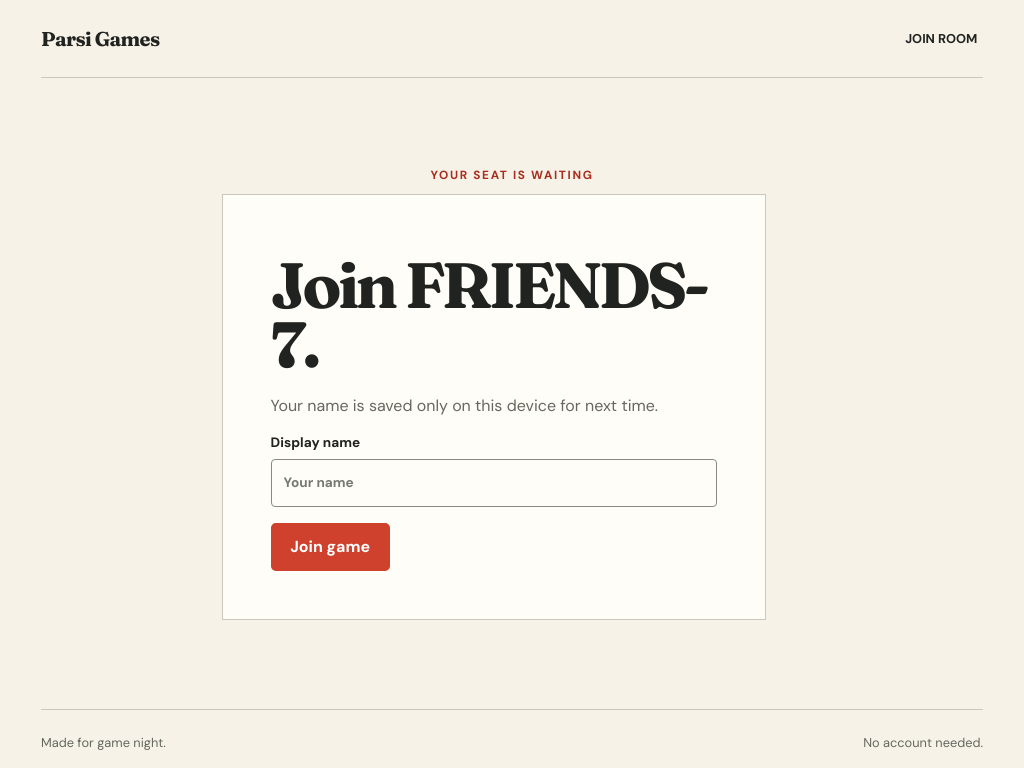
Parsi Games product shell › joins from a shared room URL with a temporary display name
The width and height of the screenshot is (1024, 768).
Type "Sam" into the field labelled "Display name".
click(494, 483); type("Sam")  # box top-left (271, 459), bottom-right (717, 507)
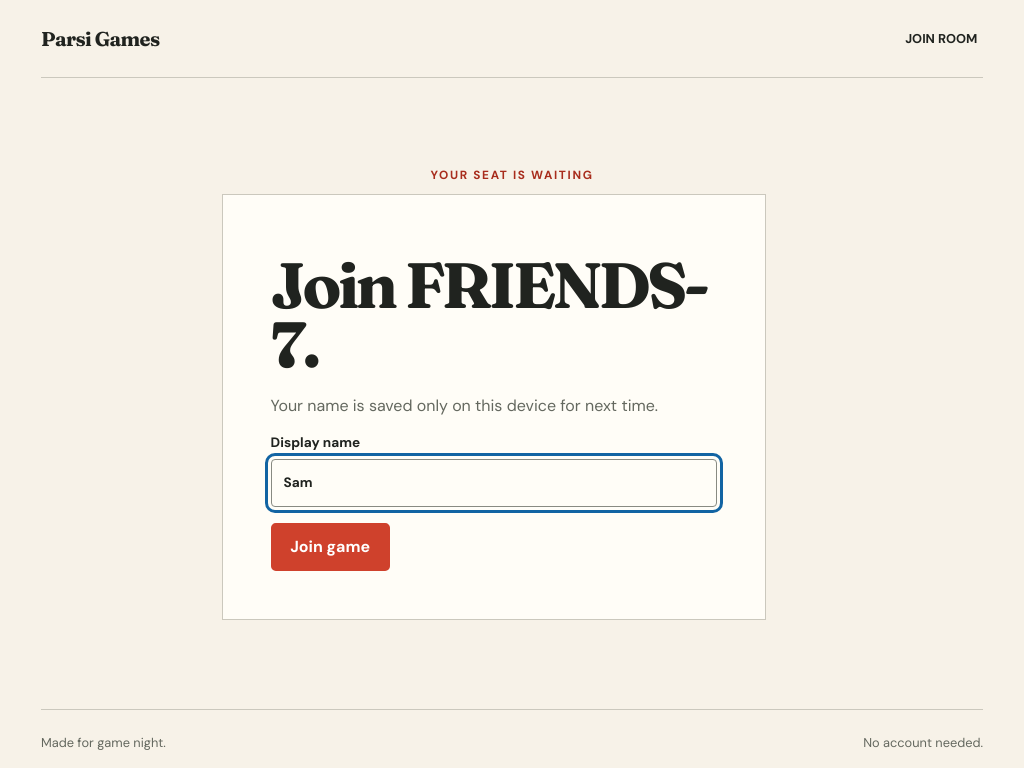
Click the button "Join game".
click(330, 547)  # box top-left (271, 523), bottom-right (390, 571)
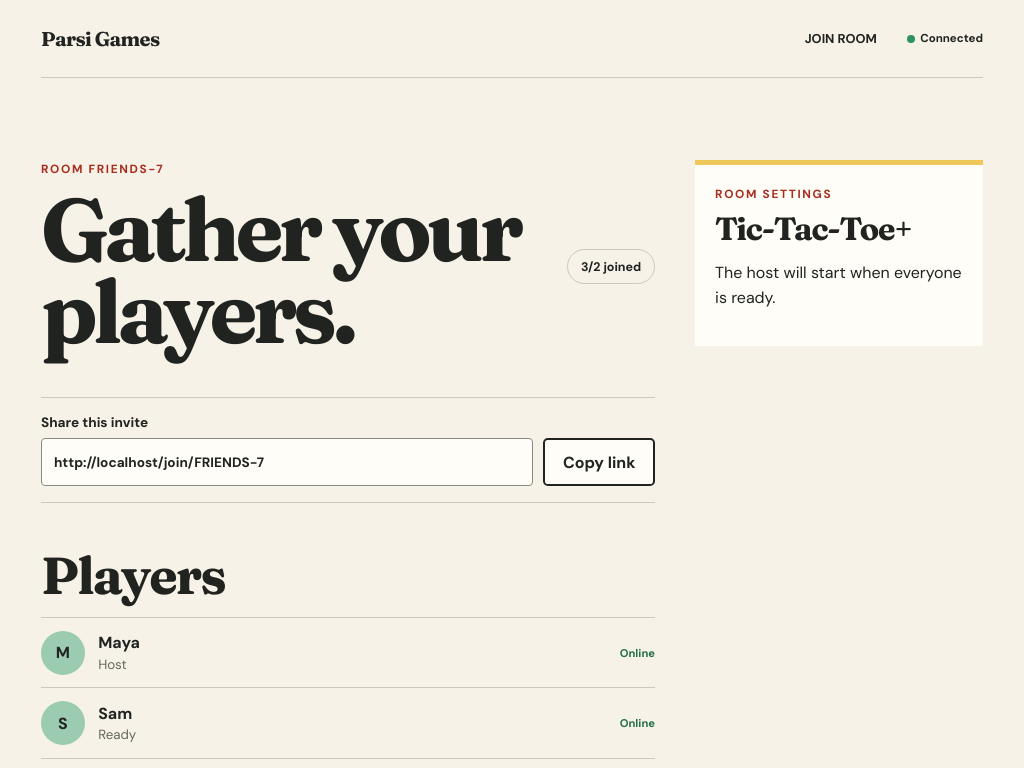
Result: the heading "Gather your players." is shown at top-left (41, 189), bottom-right (551, 353)
Result: the text "Sam" is shown at top-left (98, 703), bottom-right (132, 724)
